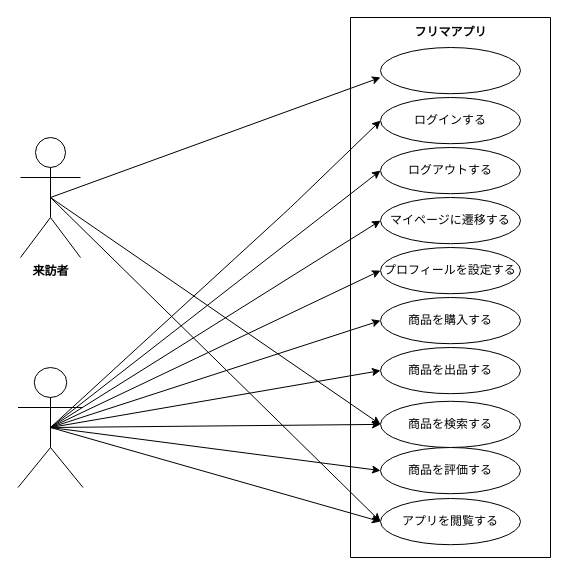
Image size: 568x575. Some labels were removed from this diagram. Each missing label, with the box of its shape:
会員: (17, 366, 83, 488)
個人情報を登録する: (380, 46, 520, 94)
